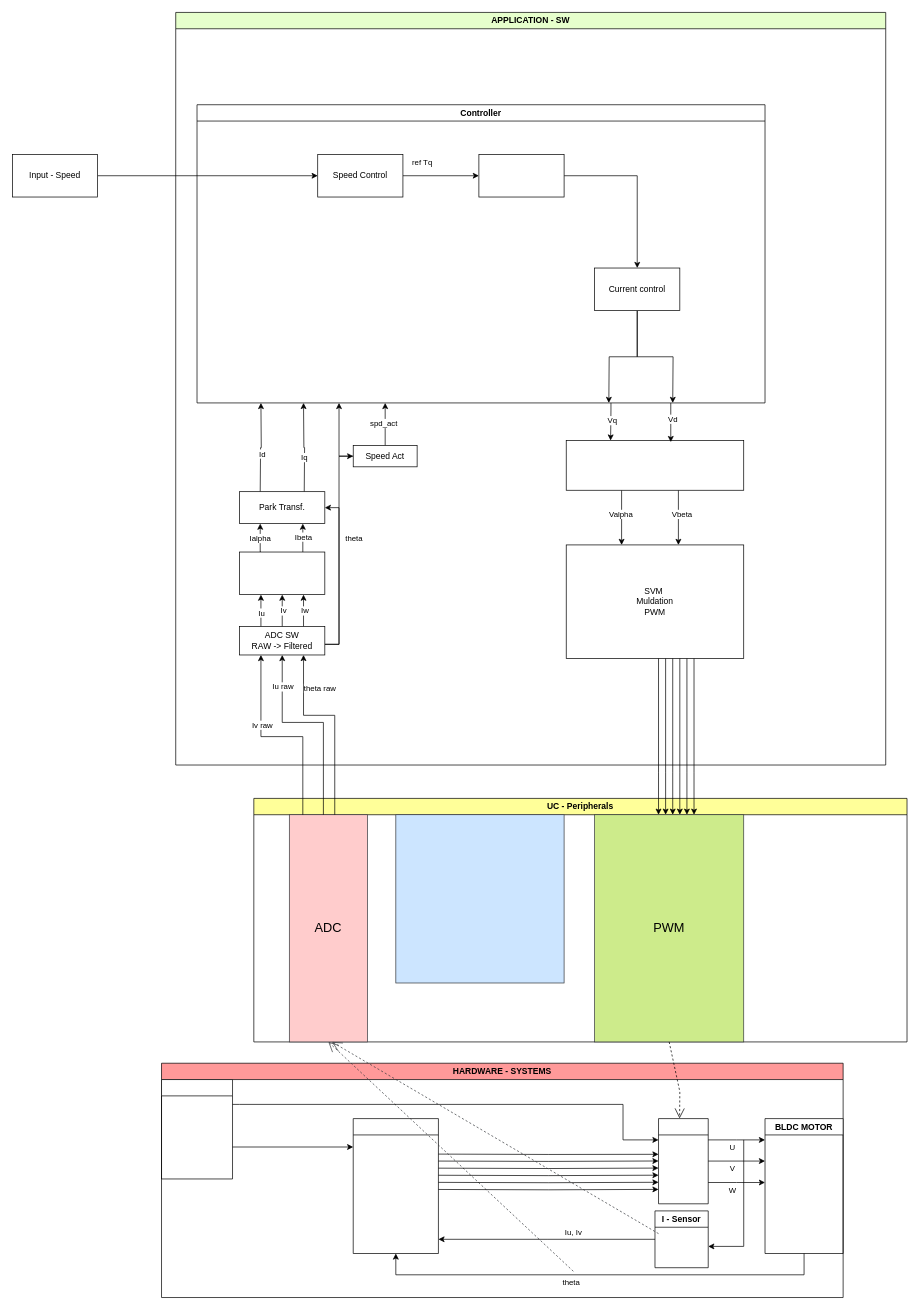
Image size: 919x1310. Some labels were removed from this diagram. Here are the shapes that lost their labels. From the top down, the centre of each, then its label:
At (x=521, y=175): "Torque Control".
At (x=655, y=465): "Inverse Park Transf".
At (x=282, y=573): "CLARK Transf.".
At (x=479, y=898): "CPU".
At (x=197, y=1129): "PowerSupply".
At (x=683, y=1161): "INVERTER".
At (x=395, y=1186): "STM32F407VET6".
